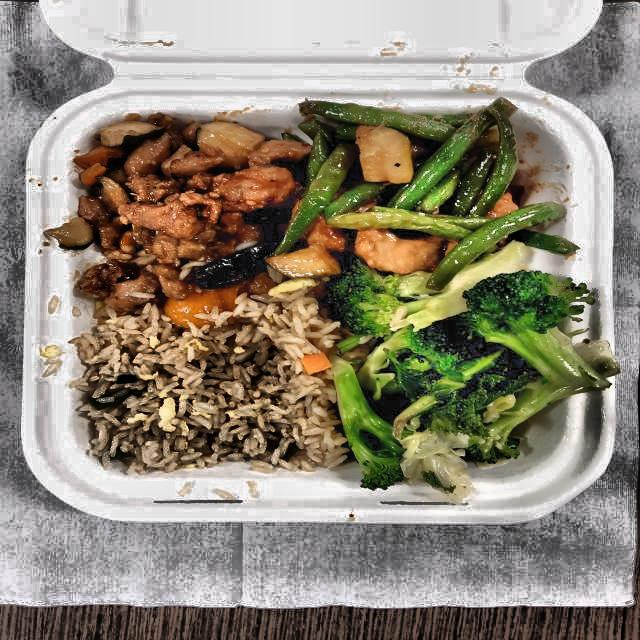Food: (326, 266, 601, 484), (285, 90, 575, 286), (52, 106, 301, 316), (70, 302, 344, 482)
